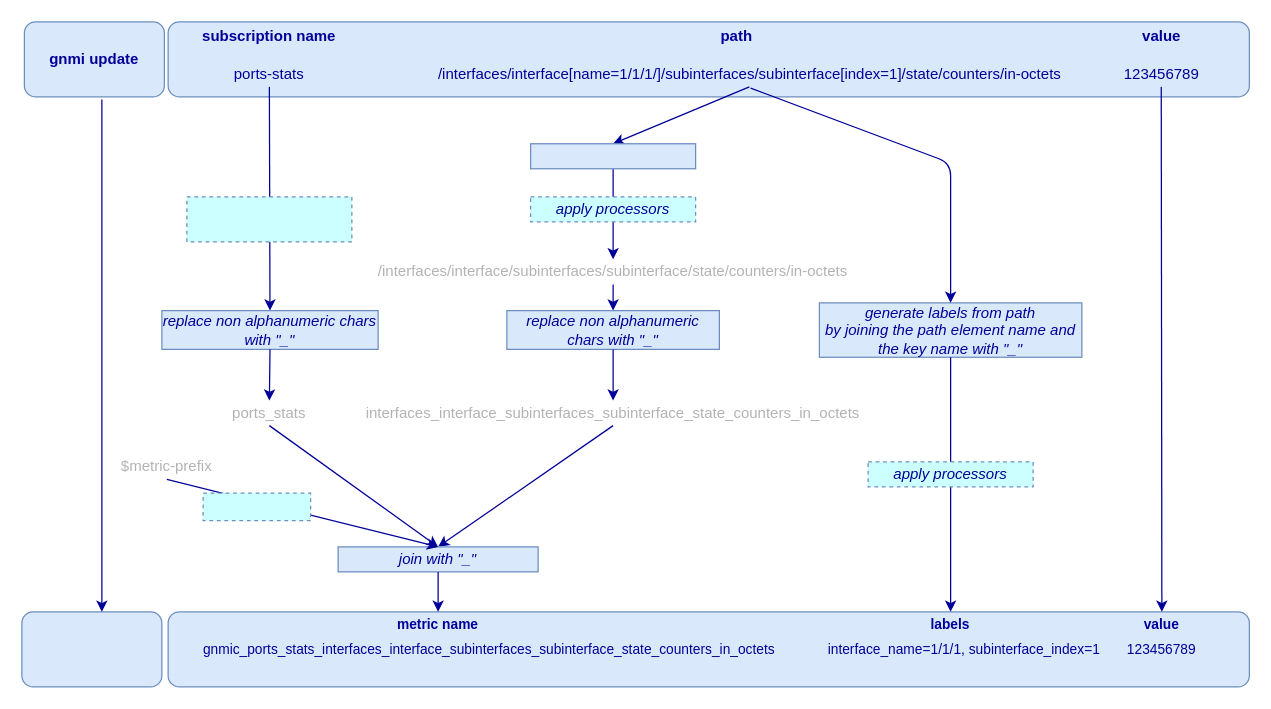
Some shapes in this 1271 by 709 pixel diagram are drawn without their labels. The centre of each missing label's shape, as x and y in pixels:
"if enabled using $append-subscription-name" goes at point (269, 219).
"if not empty string" goes at point (256, 506).
"prometheus metric" goes at point (91, 649).
"strip keys from path" goes at point (612, 155).
